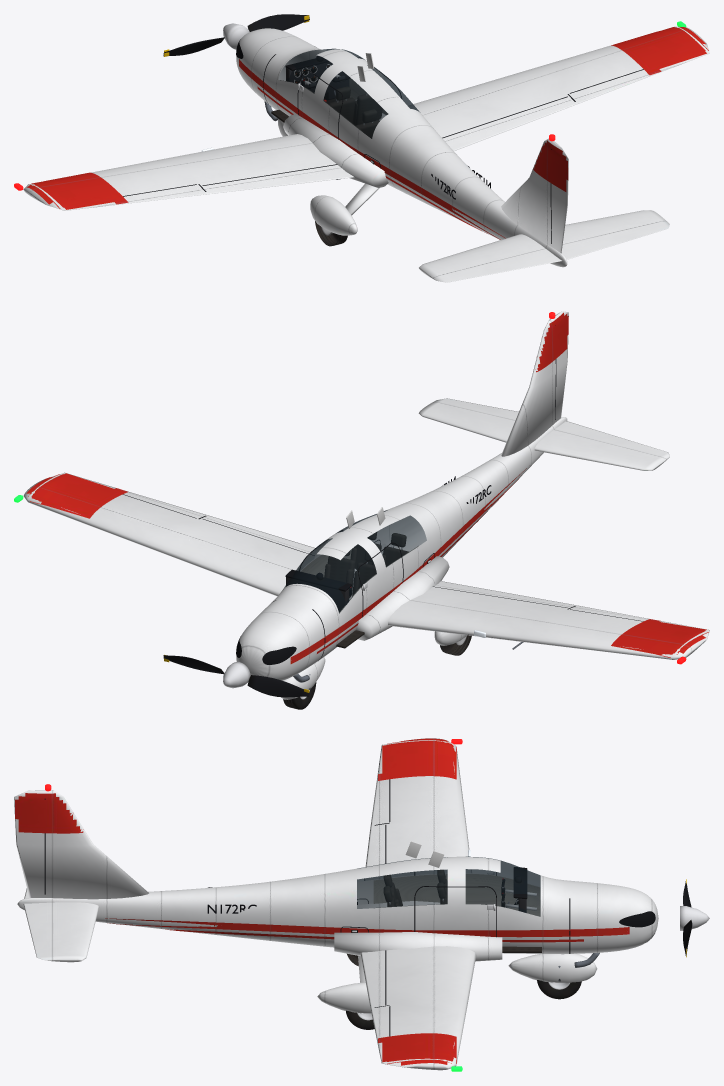
Rendered from SmallPlane.glb.
3 views of the same model, one above another, from view 1: azimuth 30°, elevation 25°; view 2: azimuth 150°, elevation 25°; view 3: azimuth 270°, elevation 25° (orthographic).
Visible parts, largest first — view 1: SmallPlane_Body, SmallPlane_Glass, SmallPlane_Interior, SmallPlane_Spin1, SmallPlane_Trim; view 2: SmallPlane_Body, SmallPlane_Glass, SmallPlane_Interior, SmallPlane_Spin1, SmallPlane_Trim; view 3: SmallPlane_Body, SmallPlane_Glass, SmallPlane_Interior, SmallPlane_Trim, SmallPlane_Spin1, SmallPlane_Wheel1.
Part boxes in pixels (bbox=[...]): SmallPlane_Body: bbox=[23, 26, 709, 282]; SmallPlane_Glass: bbox=[278, 48, 420, 138]; SmallPlane_Interior: bbox=[271, 56, 387, 138]; SmallPlane_Spin1: bbox=[163, 14, 309, 56]; SmallPlane_Trim: bbox=[123, 39, 643, 243]; SmallPlane_Body: bbox=[23, 311, 709, 699]; SmallPlane_Glass: bbox=[283, 510, 426, 613]; SmallPlane_Interior: bbox=[285, 532, 418, 648]; SmallPlane_Spin1: bbox=[163, 654, 309, 697]; SmallPlane_Trim: bbox=[123, 325, 643, 689]; SmallPlane_Body: bbox=[14, 738, 658, 1070]; SmallPlane_Glass: bbox=[357, 856, 540, 916]; SmallPlane_Interior: bbox=[373, 867, 541, 952]; SmallPlane_Trim: bbox=[44, 779, 655, 1036]; SmallPlane_Spin1: bbox=[680, 879, 709, 957]; SmallPlane_Wheel1: bbox=[537, 980, 581, 999].
Size of the model in its own units: 34.35 by 10.27 by 30.65.
Materials: 13 (8 with a texture image).
